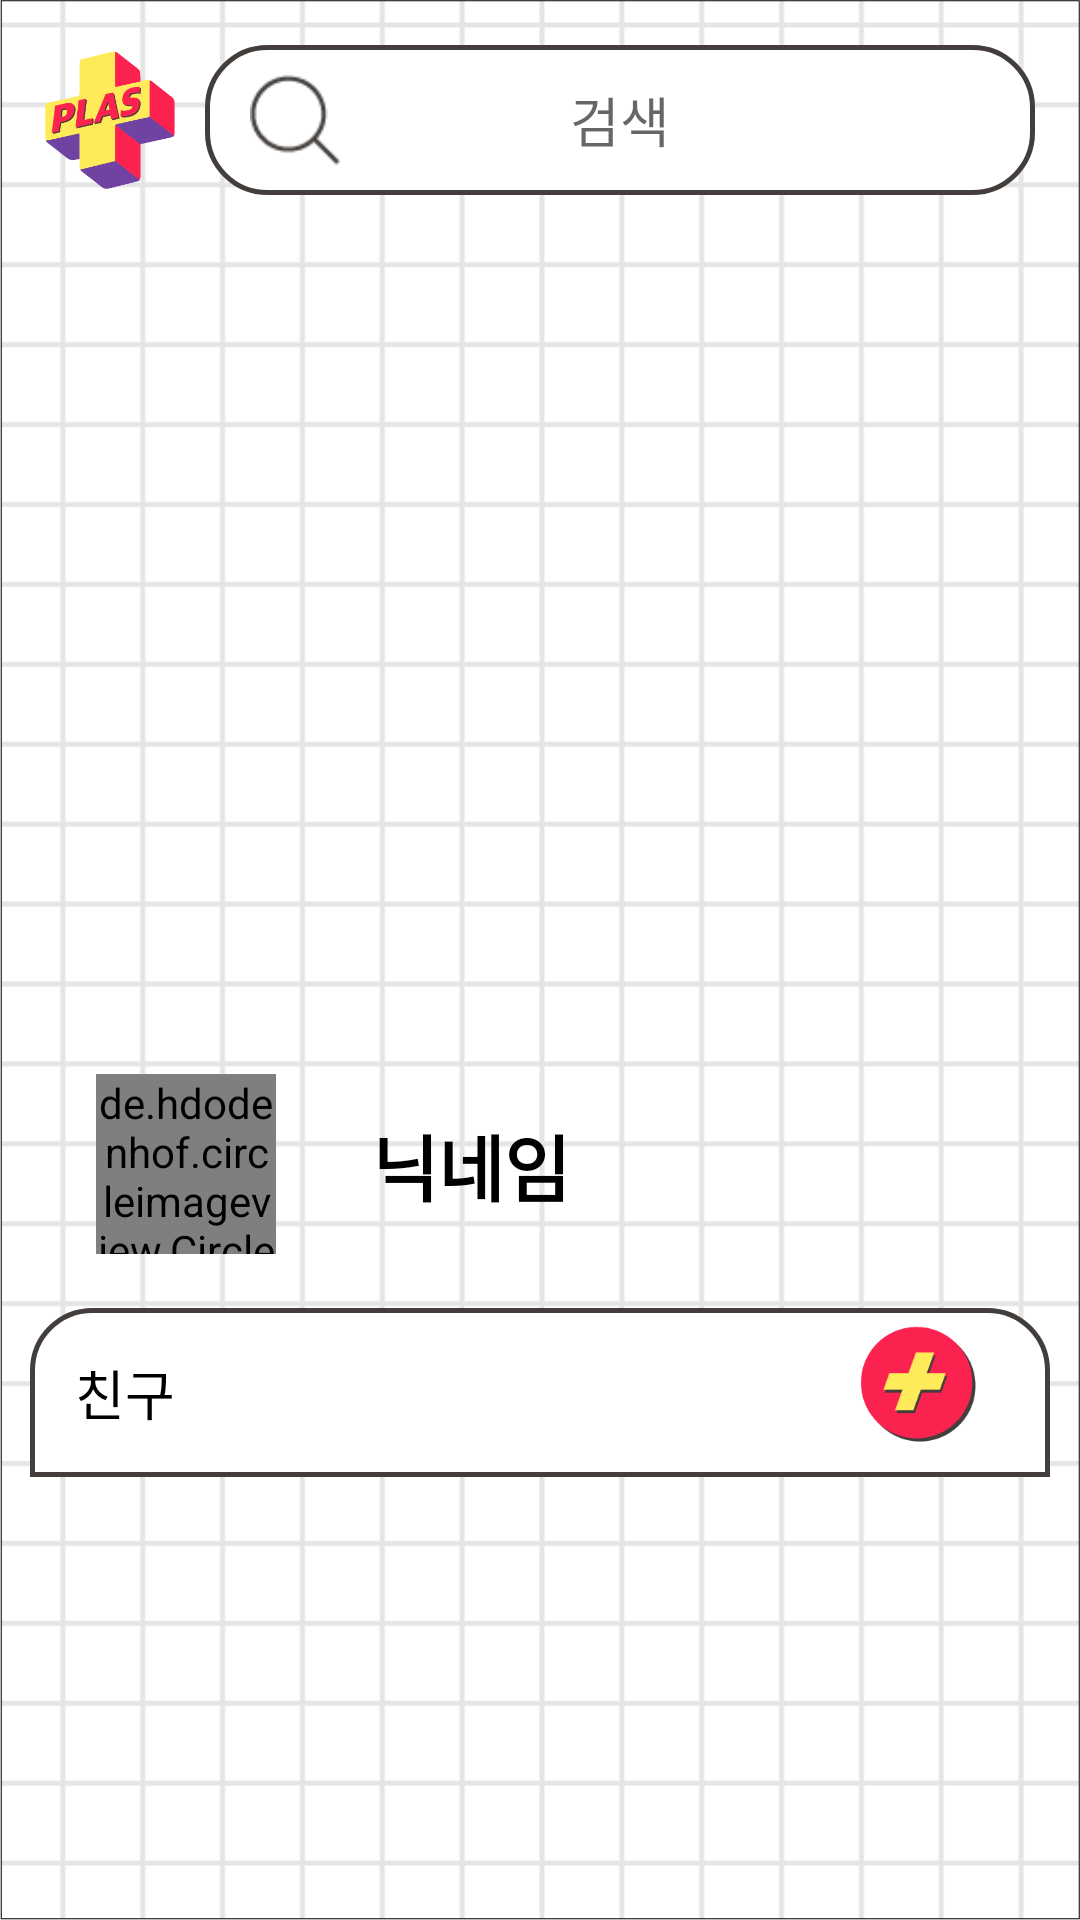

Icon bounding boxes for this 1080*1920 phone screenshot, format (left=x1, top=y1, right=x2, bottom=y2):
plus: (left=861, top=1326, right=976, bottom=1442)
search: (left=250, top=75, right=340, bottom=165)
